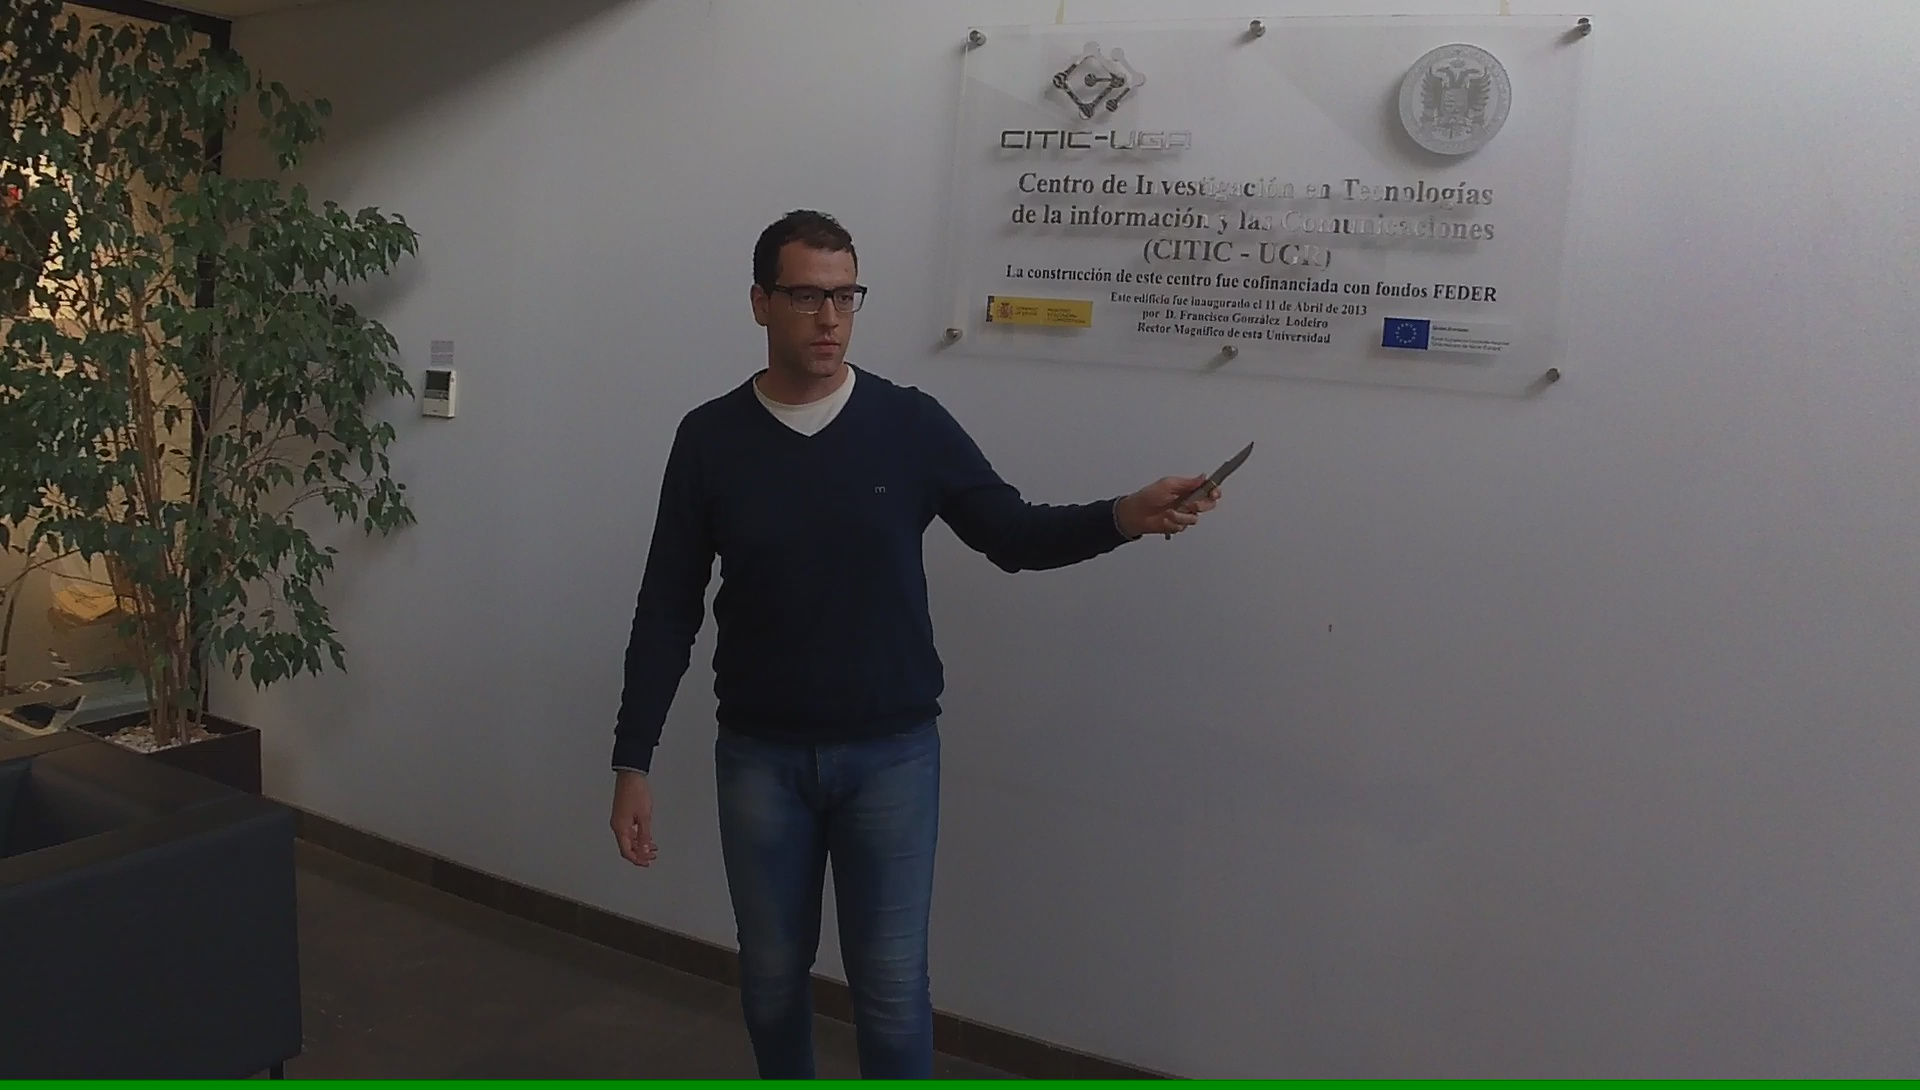knife: (1153, 427, 1263, 546)
